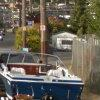Boat: (1, 41, 88, 100)
